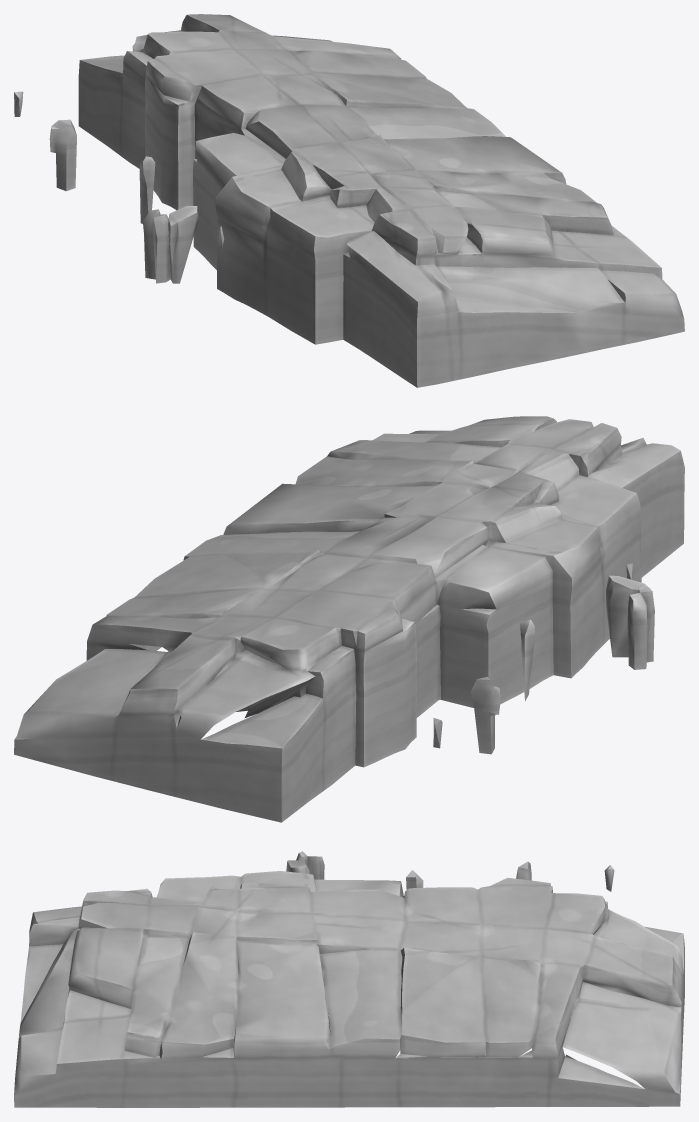
Rendered from sculpted_step_01.glb.
3 renders of one model, top to bottom at view 1: azimuth 30°, elevation 25°; view 2: azimuth 150°, elevation 25°; view 3: azimuth 270°, elevation 25°, orthographic. The views are drawn at different scales.
Visible parts, largest first — view 1: sculpted_step_01; view 2: sculpted_step_01; view 3: sculpted_step_01.
Part boxes in pixels (x1=…): sculpted_step_01: x1=14, y1=14, x2=684, y2=387; sculpted_step_01: x1=14, y1=416, x2=684, y2=822; sculpted_step_01: x1=14, y1=851, x2=684, y2=1107.
Size of the model in its own units: 9.89 by 3.09 by 16.31.
1 material, 1 textured.
